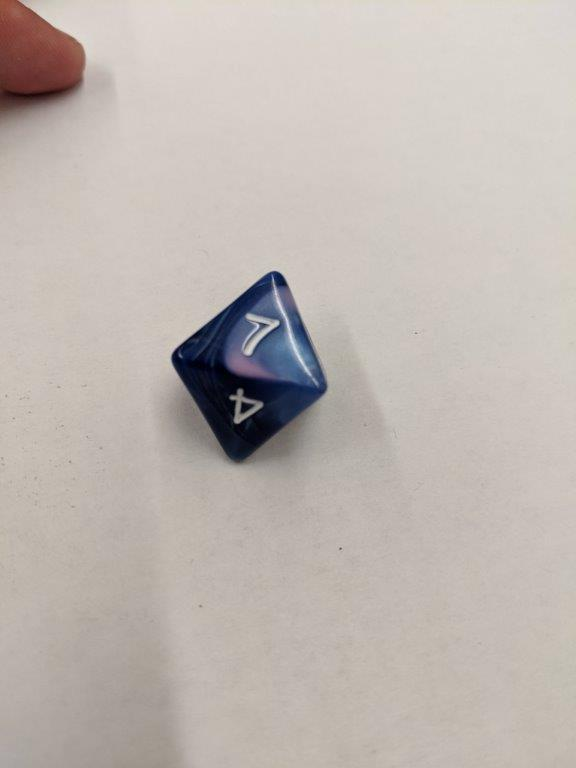d8-7: (170, 267, 326, 461)
